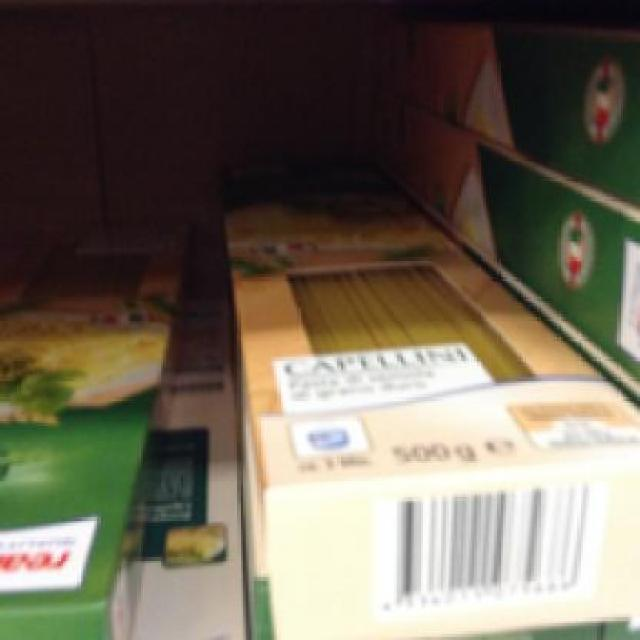Pasta: (219, 160, 632, 637), (0, 217, 183, 637)
